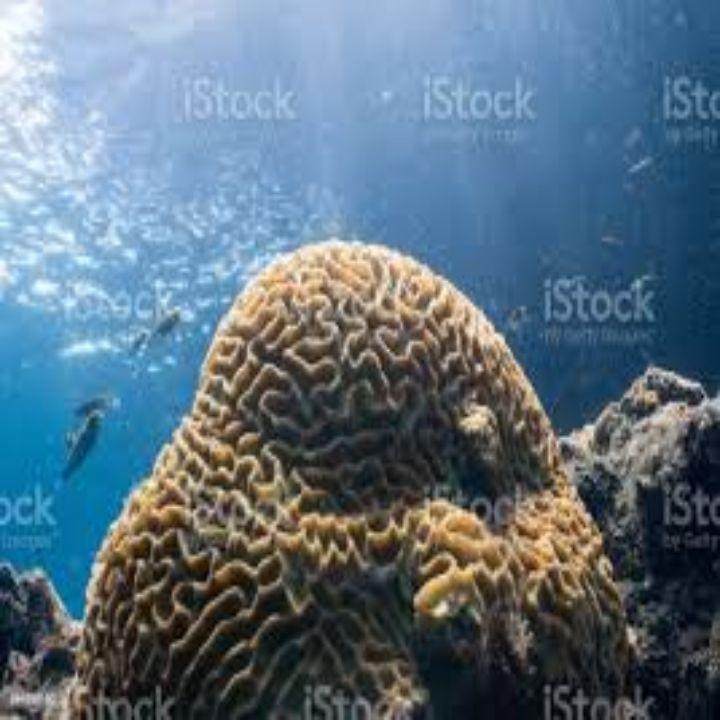Healthy Coral: (104, 225, 656, 713)
